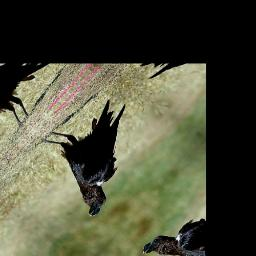Crow: (17, 83, 171, 220)
